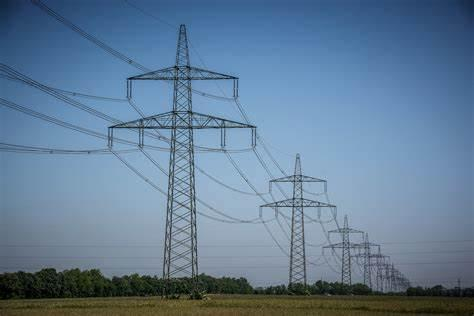power_tower: (108, 20, 251, 305), (258, 151, 333, 297), (318, 212, 363, 295)
